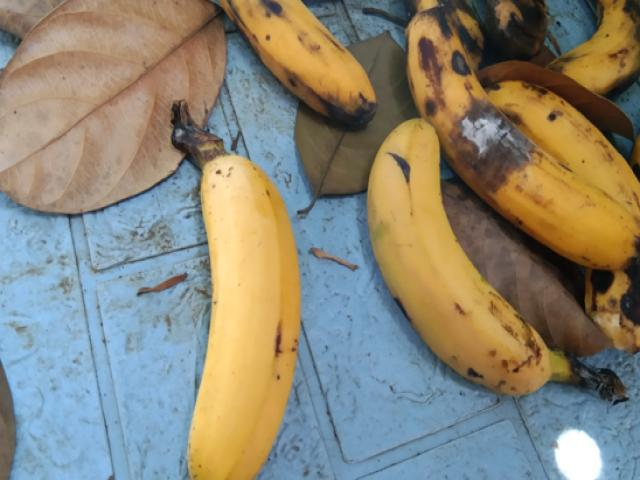freshripe: (153, 153, 351, 479)
ripe: (364, 120, 553, 403), (224, 0, 378, 104)
rotten: (402, 11, 639, 271)
